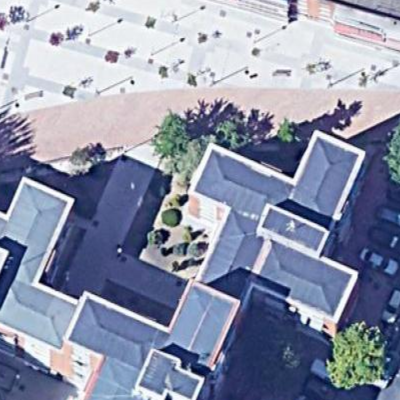tree: (324, 316, 394, 392), (152, 109, 209, 180), (272, 115, 304, 159), (160, 206, 184, 229)
